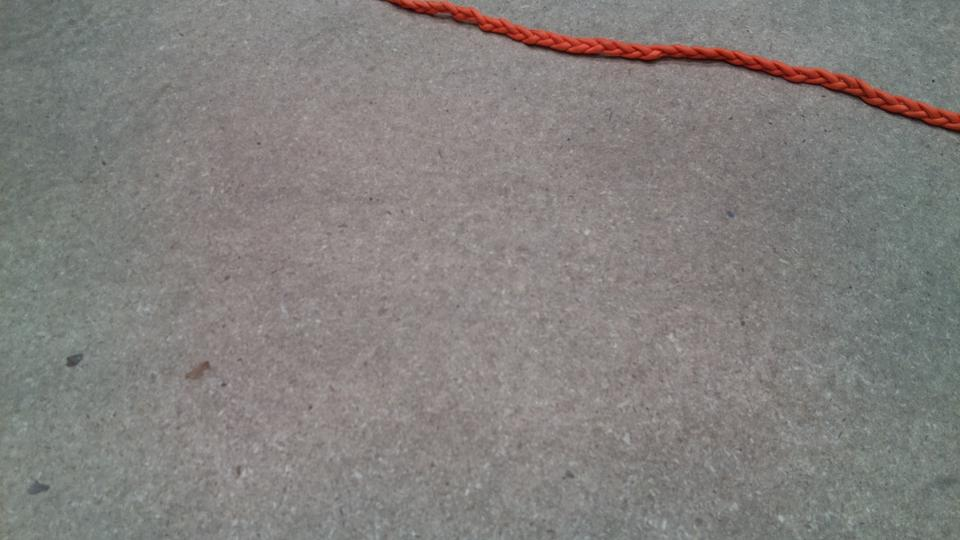rope: (400, 1, 959, 125)
